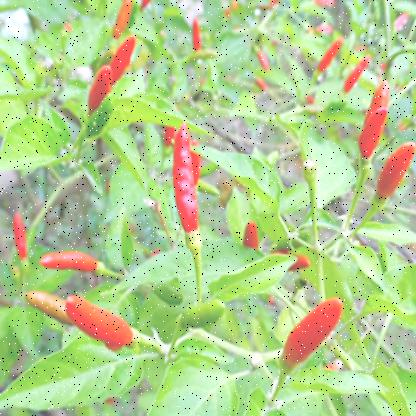chili: (268, 283, 357, 386), (158, 109, 213, 245), (52, 282, 143, 361), (353, 71, 404, 163), (38, 250, 104, 284), (6, 205, 35, 273)
